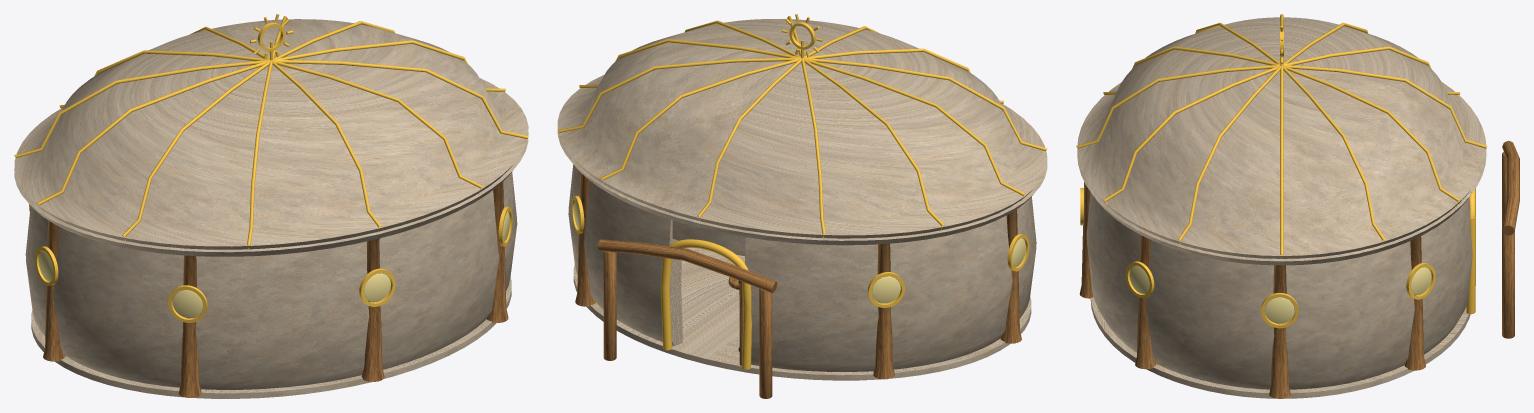
Rendered from 03_Posada_Oval.obj.
The picture shows the model from 3 angles, left to right: view 1: azimuth 30°, elevation 25°; view 2: azimuth 150°, elevation 25°; view 3: azimuth 270°, elevation 25°; orthographic projection. The views are drawn at different scales.
Parts seen in each view (by area): view 1: Cubierta_desmontable, Cuerpo_abombado_con_interior, Pilares_y_oculos, Suelo, Remate_elemental; view 2: Cubierta_desmontable, Cuerpo_abombado_con_interior, Suelo, Pilares_y_oculos, Porche_curvo, Entrada_arqueada, Dintel_curvo, Remate_elemental; view 3: Cubierta_desmontable, Cuerpo_abombado_con_interior, Pilares_y_oculos, Suelo, Porche_curvo, Entrada_arqueada.
Part boxes in pixels (box(x1,y1,x2,y2)): Cubierta_desmontable: box(14, 16, 528, 256); Cuerpo_abombado_con_interior: box(25, 172, 517, 389); Pilares_y_oculos: box(29, 182, 512, 397); Suelo: box(31, 277, 511, 398); Remate_elemental: box(250, 14, 292, 60); Cubierta_desmontable: box(557, 16, 1047, 245); Cuerpo_abombado_con_interior: box(568, 164, 1036, 371); Suelo: box(573, 247, 1031, 380); Pilares_y_oculos: box(571, 172, 1029, 379); Porche_curvo: box(597, 239, 777, 398); Entrada_arqueada: box(660, 239, 751, 369); Dintel_curvo: box(672, 220, 745, 256); Remate_elemental: box(782, 14, 822, 58); Cubierta_desmontable: box(1076, 14, 1487, 265); Cuerpo_abombado_con_interior: box(1086, 192, 1472, 389); Pilares_y_oculos: box(1079, 182, 1435, 398); Suelo: box(1090, 297, 1470, 398); Porche_curvo: box(1502, 140, 1519, 338); Entrada_arqueada: box(1466, 188, 1475, 314).
Bounding box in the file's own units: 10.3 × 6.14 × 8.97.
